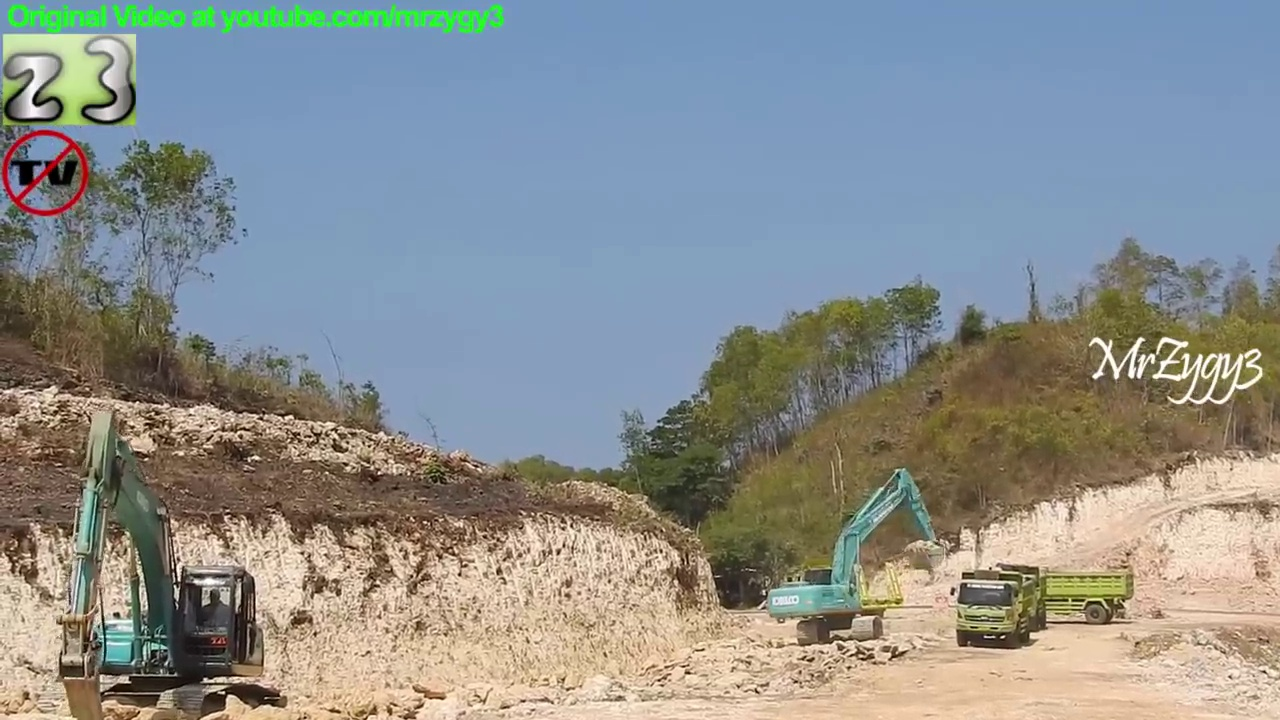excavator: (765, 467, 947, 645)
excavator breaker: (31, 407, 291, 720)
truck: (981, 561, 1140, 626), (948, 569, 1041, 651), (964, 559, 1051, 641)
